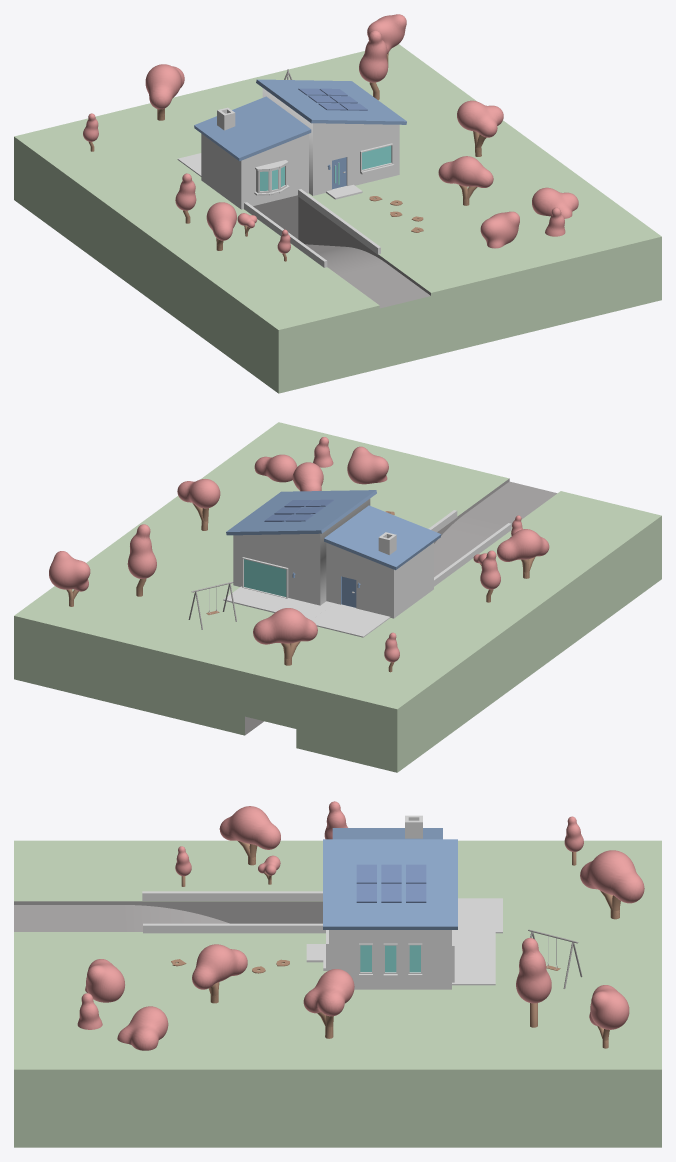
Rendered from house.gltf.
3 renders of one model, top to bottom at view 1: azimuth 30°, elevation 25°; view 2: azimuth 150°, elevation 25°; view 3: azimuth 270°, elevation 25°, orthographic. The views are drawn at different scales.
Parts seen in each view (by area): view 1: FLOOR, Metaball (×9), GARAGE, BIG CUBE-Mat.6, SMALL CUBE-Mat.6, SMALL CUBE-Mat.1, BIG CUBE-Mat.1, GARAGE DOOR, GARAGE FENCE RIGHT, GARAGE FENCE LEFT, TRI WINDOW; view 2: FLOOR, Metaball (×9), SMALL CUBE-Mat.6, BIG CUBE-Mat.6, GARAGE, SMALL CUBE-Mat.1, BIG CUBE-Mat.1, back mat.1, back mat.2, LIVING WINDOW-Mat.4, GARAGE FENCE LEFT; view 3: FLOOR, Metaball (×11), BIG CUBE-Mat.1, GARAGE, BIG CUBE-Mat.6, back mat.2, GARAGE FENCE RIGHT, GARAGE FENCE LEFT, back mat.1, SMALL CUBE-Mat.1.
Boxes of the visible parts, x1=… form: FLOOR: x1=14, y1=44, x2=661, y2=393; Metaball (×9): x1=145, y1=14, x2=578, y2=248; GARAGE: x1=298, y1=197, x2=430, y2=308; BIG CUBE-Mat.6: x1=262, y1=88, x2=399, y2=195; SMALL CUBE-Mat.6: x1=201, y1=133, x2=308, y2=209; SMALL CUBE-Mat.1: x1=194, y1=96, x2=311, y2=161; BIG CUBE-Mat.1: x1=256, y1=79, x2=406, y2=124; GARAGE DOOR: x1=253, y1=195, x2=298, y2=239; GARAGE FENCE RIGHT: x1=298, y1=189, x2=380, y2=254; GARAGE FENCE LEFT: x1=244, y1=202, x2=327, y2=267; TRI WINDOW: x1=254, y1=160, x2=289, y2=195; FLOOR: x1=14, y1=422, x2=661, y2=772; Metaball (×9): x1=49, y1=446, x2=549, y2=644; SMALL CUBE-Mat.6: x1=326, y1=542, x2=433, y2=618; BIG CUBE-Mat.6: x1=233, y1=499, x2=370, y2=605; GARAGE: x1=245, y1=478, x2=557, y2=735; SMALL CUBE-Mat.1: x1=324, y1=505, x2=441, y2=570; BIG CUBE-Mat.1: x1=226, y1=490, x2=376, y2=535; back mat.1: x1=312, y1=603, x2=390, y2=637; back mat.2: x1=223, y1=586, x2=334, y2=620; LIVING WINDOW-Mat.4: x1=244, y1=559, x2=286, y2=596; GARAGE FENCE LEFT: x1=434, y1=523, x2=511, y2=586; FLOOR: x1=14, y1=840, x2=661, y2=1147; Metaball (×11): x1=77, y1=801, x2=644, y2=1050; BIG CUBE-Mat.1: x1=323, y1=839, x2=457, y2=929; GARAGE: x1=14, y1=901, x2=322, y2=931; BIG CUBE-Mat.6: x1=329, y1=930, x2=451, y2=989; back mat.2: x1=452, y1=931, x2=495, y2=985; GARAGE FENCE RIGHT: x1=143, y1=923, x2=325, y2=933; GARAGE FENCE LEFT: x1=142, y1=891, x2=322, y2=900; back mat.1: x1=454, y1=898, x2=502, y2=933; SMALL CUBE-Mat.1: x1=332, y1=828, x2=442, y2=839.
Bounding box in the file's own units: 882 × 313 × 1054.
